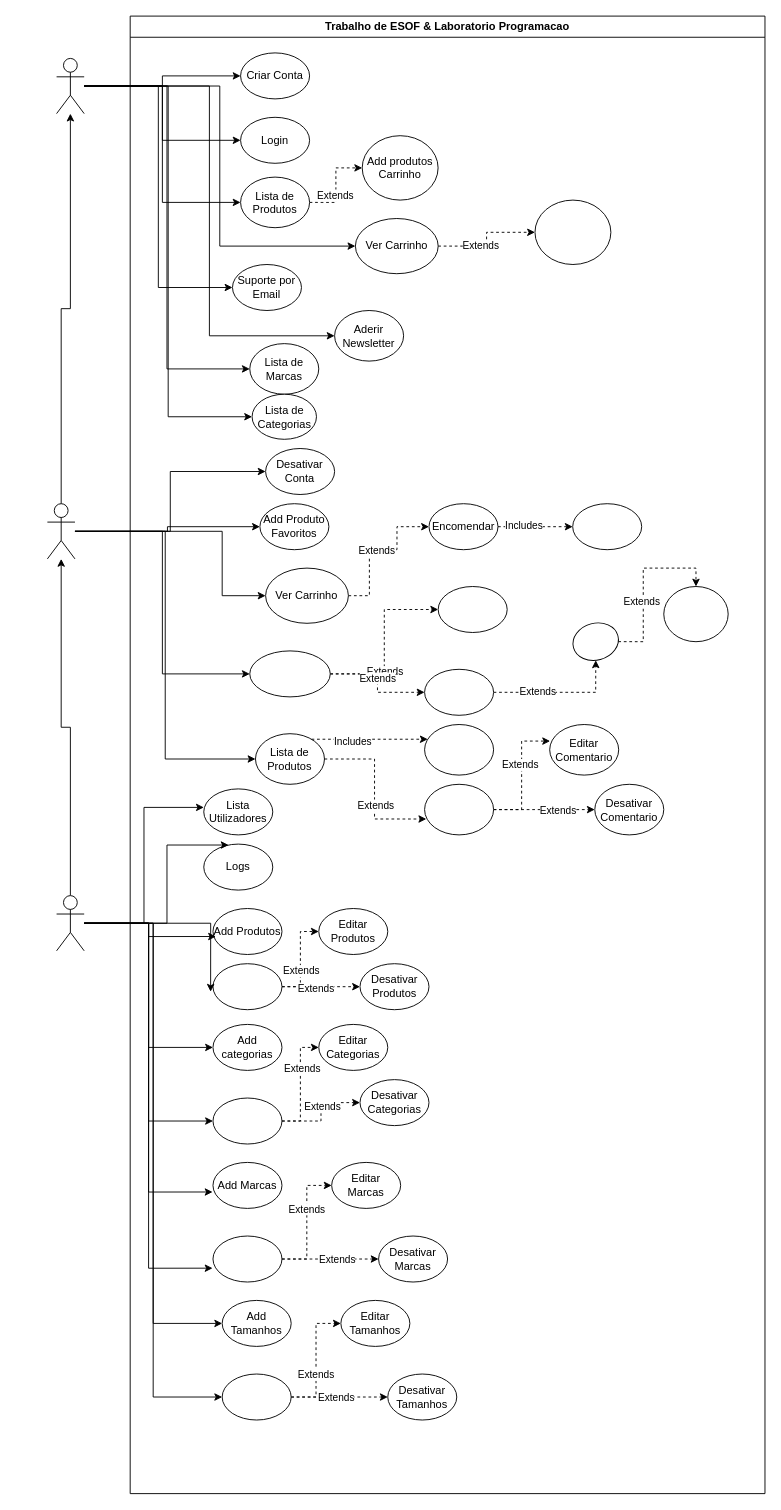
Some shapes in this 781 by 1510 pixel diagram are drawn without their labels. Each missing label, with the centre of its shape:
"Administrador" belongs at pixel 70 923.
"Cancelar Encomenda" belongs at pixel 472 609.
"Comentar" belongs at pixel 459 809.
"Entregue" belongs at pixel 595 641.
"Lista Categorias" belongs at pixel 247 1120.
"Lista de Comentarios" belongs at pixel 459 749.
"Lista Marcas" belongs at pixel 247 1258.
"Lista Produtos" belongs at pixel 247 986.
"Lista Tamanhos" belongs at pixel 256 1396.
"Pedir Devolucao" belongs at pixel 695 614.
"Receber fatura" belongs at pixel 607 526.
"Remover produtos Carrinho" belongs at pixel 572 231.
"Utilizador Logado" belongs at pixel 60 531.
"Utilizador Não Logado" belongs at pixel 70 86.
"Ver Encomendas" belongs at pixel 289 673.
"Ver estado encomenda" belongs at pixel 459 691.
